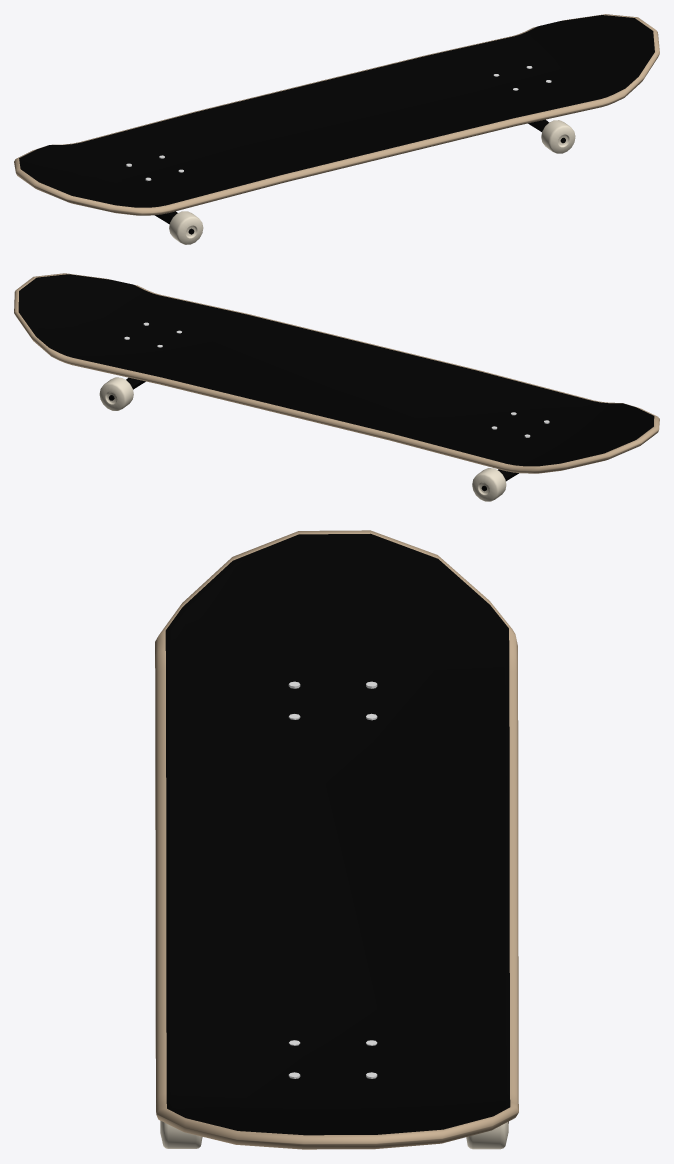
Rendered from Skateboard.fbx.
The picture shows the model from 3 angles, top to bottom: view 1: azimuth 30°, elevation 25°; view 2: azimuth 150°, elevation 25°; view 3: azimuth 270°, elevation 25°; orthographic projection. The views are drawn at different scales.
Parts seen in each view (by area): view 1: Circle, Cylinder.002, Cylinder.001; view 2: Circle, Cylinder.001, Cylinder.002; view 3: Circle, Cylinder.001.
Boxes of the visible parts, left/top/right/bottom form: Circle: left=14, top=14, right=659, bottom=215; Cylinder.002: left=155, top=211, right=203, bottom=244; Cylinder.001: left=528, top=119, right=575, bottom=153; Circle: left=14, top=273, right=659, bottom=473; Cylinder.001: left=99, top=377, right=145, bottom=410; Cylinder.002: left=472, top=468, right=519, bottom=501; Circle: left=155, top=530, right=518, bottom=1149; Cylinder.001: left=160, top=1121, right=508, bottom=1149.
Size of the model in its own units: 718 by 73.31 by 181.
